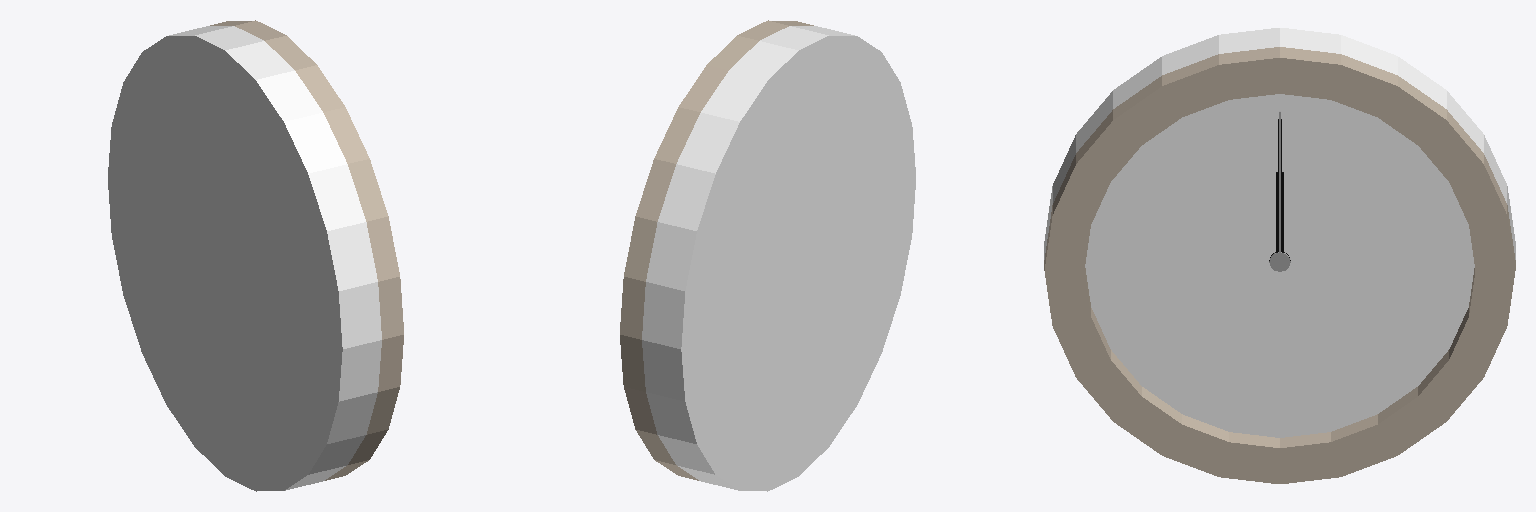
URDF robot description (room602-clock_fixed):
<?xml version="1.0"?>
<robot name="room602-clock_fixed"
       xmlns:xi="http://www.w3.org/2001/XInclude">
  <gazebo>
    <static>false</static>
  </gazebo>
  <link name="ROOM602-CLOCK-BODYSET2_link">
    <visual>
      <origin xyz="0 0 0" rpy="0 -0 0"/>
      <geometry>
        <mesh filename="model://room602-clock/meshes/ROOM602-CLOCK-BODYSET2_link_mesh.dae" scale="1 1 1" />
      </geometry>
    </visual>
    <collision>
      <origin xyz="0 0 0" rpy="0 -0 0"/>
      <geometry>
        <mesh filename="model://room602-clock/meshes/ROOM602-CLOCK-BODYSET2_link_mesh.dae" scale="1 1 1" />
      </geometry>
    </collision>
    <inertial>
      <mass value="0.001" />
      <origin xyz="0 0 0" rpy="0 -0 0"/>
      <inertia ixx="1e-03" ixy="0" ixz="0" iyy="1e-03" iyz="0" izz="1e-03"/>
    </inertial>
  </link>
  <gazebo reference="ROOM602-CLOCK-BODYSET2_link">
    <mu1>0.9</mu1>
    <mu2>0.9</mu2>
  </gazebo>
  <link name="ROOM602-CLOCK-BODYSET3_link">
    <visual>
      <origin xyz="0.008 0 0.165" rpy="0 -0 0"/>
      <geometry>
        <mesh filename="model://room602-clock/meshes/ROOM602-CLOCK-BODYSET3_link_mesh.dae" scale="1 1 1" />
      </geometry>
    </visual>
    <collision>
      <origin xyz="0.008 0 0.165" rpy="0 -0 0"/>
      <geometry>
        <mesh filename="model://room602-clock/meshes/ROOM602-CLOCK-BODYSET3_link_mesh.dae" scale="1 1 1" />
      </geometry>
    </collision>
    <inertial>
      <mass value="0.001" />
      <origin xyz="0 0 0" rpy="0 -0 0"/>
      <inertia ixx="1e-03" ixy="0" ixz="0" iyy="1e-03" iyz="0" izz="1e-03"/>
    </inertial>
  </link>
  <gazebo reference="ROOM602-CLOCK-BODYSET3_link">
    <mu1>0.9</mu1>
    <mu2>0.9</mu2>
  </gazebo>
  <link name="ROOM602-CLOCK-BODYSET4_link">
    <visual>
      <origin xyz="0.009 0 0.165" rpy="0 -0 0"/>
      <geometry>
        <mesh filename="model://room602-clock/meshes/ROOM602-CLOCK-BODYSET4_link_mesh.dae" scale="1 1 1" />
      </geometry>
    </visual>
    <collision>
      <origin xyz="0.009 0 0.165" rpy="0 -0 0"/>
      <geometry>
        <mesh filename="model://room602-clock/meshes/ROOM602-CLOCK-BODYSET4_link_mesh.dae" scale="1 1 1" />
      </geometry>
    </collision>
    <inertial>
      <mass value="0.001" />
      <origin xyz="-0.008 0 -0.165" rpy="0 -0 0"/>
      <inertia ixx="1e-03" ixy="0" ixz="0" iyy="1e-03" iyz="0" izz="1e-03"/>
    </inertial>
  </link>
  <gazebo reference="ROOM602-CLOCK-BODYSET4_link">
    <mu1>0.9</mu1>
    <mu2>0.9</mu2>
  </gazebo>
  <link name="ROOM602-CLOCK-BODYSET5_link">
    <visual>
      <origin xyz="0.01 0 0.165" rpy="0 -0 0"/>
      <geometry>
        <mesh filename="model://room602-clock/meshes/ROOM602-CLOCK-BODYSET5_link_mesh.dae" scale="1 1 1" />
      </geometry>
    </visual>
    <collision>
      <origin xyz="0.01 0 0.165" rpy="0 -0 0"/>
      <geometry>
        <mesh filename="model://room602-clock/meshes/ROOM602-CLOCK-BODYSET5_link_mesh.dae" scale="1 1 1" />
      </geometry>
    </collision>
    <inertial>
      <mass value="0.001" />
      <origin xyz="-0.017 0 -0.33" rpy="0 -0 0"/>
      <inertia ixx="1e-03" ixy="0" ixz="0" iyy="1e-03" iyz="0" izz="1e-03"/>
    </inertial>
  </link>
  <gazebo reference="ROOM602-CLOCK-BODYSET5_link">
    <mu1>0.9</mu1>
    <mu2>0.9</mu2>
  </gazebo>
  <joint name="HOUR-JOINT" type="revolute">
    <parent link="ROOM602-CLOCK-BODYSET2_link"/>
    <child  link="ROOM602-CLOCK-BODYSET3_link"/>
    <origin xyz="0.008 0 0.165" rpy="0 -0 0 "/>
    <axis   xyz="-1 0 0"/>
    <limit lower="-6.28319" upper="6.28319" effort="100" velocity="0.5" />
    <dynamics damping="0.2" friction="0" />
  </joint>
  <transmission type="pr2_mechanism_model/SimpleTransmission" name="HOUR-JOINT_trans" >
    <actuator name="HOUR-JOINT_motor" />
    <joint name="HOUR-JOINT" />
    <mechanicalReduction>1</mechanicalReduction>
  </transmission>
  <gazebo reference="HOUR-JOINT">
    <cfmDamping>0.4</cfmDamping>
  </gazebo>
  <joint name="MINUTE-JOINT" type="revolute">
    <parent link="ROOM602-CLOCK-BODYSET3_link"/>
    <child  link="ROOM602-CLOCK-BODYSET4_link"/>
    <origin xyz="0.009 0 0.165" rpy="0 -0 0 "/>
    <axis   xyz="-1 0 0"/>
    <limit lower="-6.28319" upper="6.28319" effort="100" velocity="0.5" />
    <dynamics damping="0.2" friction="0" />
  </joint>
  <transmission type="pr2_mechanism_model/SimpleTransmission" name="MINUTE-JOINT_trans" >
    <actuator name="MINUTE-JOINT_motor" />
    <joint name="MINUTE-JOINT" />
    <mechanicalReduction>1</mechanicalReduction>
  </transmission>
  <gazebo reference="MINUTE-JOINT">
    <cfmDamping>0.4</cfmDamping>
  </gazebo>
  <joint name="SECOND-JOINT" type="revolute">
    <parent link="ROOM602-CLOCK-BODYSET4_link"/>
    <child  link="ROOM602-CLOCK-BODYSET5_link"/>
    <origin xyz="0.01 0 0.165" rpy="0 -0 0 "/>
    <axis   xyz="-1 0 0"/>
    <limit lower="-6.28319" upper="6.28319" effort="100" velocity="0.5" />
    <dynamics damping="0.2" friction="0" />
  </joint>
  <transmission type="pr2_mechanism_model/SimpleTransmission" name="SECOND-JOINT_trans" >
    <actuator name="SECOND-JOINT_motor" />
    <joint name="SECOND-JOINT" />
    <mechanicalReduction>1</mechanicalReduction>
  </transmission>
  <gazebo reference="SECOND-JOINT">
    <cfmDamping>0.4</cfmDamping>
  </gazebo>
  <!-- Used for fixing robot to Gazebo 'base_link' -->
  <link name="world"/>
  <joint name="fixed" type="fixed">
    <parent link="world"/>
    <child link="ROOM602-CLOCK-BODYSET2_link"/>
  </joint>
</robot>

--- Facts derived from the render (not from the file) ---
The picture shows the robot from 3 angles, left to right: view 1: azimuth 30°, elevation 25°; view 2: azimuth 150°, elevation 25°; view 3: azimuth 270°, elevation 25°; orthographic projection.
Model room602-clock_fixed with 5 links and 4 joints (3 revolute, 1 fixed), rooted at world, posed all joints at 0.
Links seen in each view (by area): view 1: ROOM602-CLOCK-BODYSET2_link; view 2: ROOM602-CLOCK-BODYSET2_link; view 3: ROOM602-CLOCK-BODYSET2_link, ROOM602-CLOCK-BODYSET5_link.
Link boxes in pixels (left/top/right/bottom): ROOM602-CLOCK-BODYSET2_link: left=108, top=20, right=403, bottom=491; ROOM602-CLOCK-BODYSET2_link: left=620, top=20, right=915, bottom=491; ROOM602-CLOCK-BODYSET2_link: left=1044, top=28, right=1515, bottom=483; ROOM602-CLOCK-BODYSET5_link: left=1269, top=111, right=1290, bottom=271.
Bounding box of the posed robot: 0.05 × 0.33 × 0.33 m (x, y, z).
4 mesh visuals loaded from 4 distinct referenced files (4 Collada DAE).